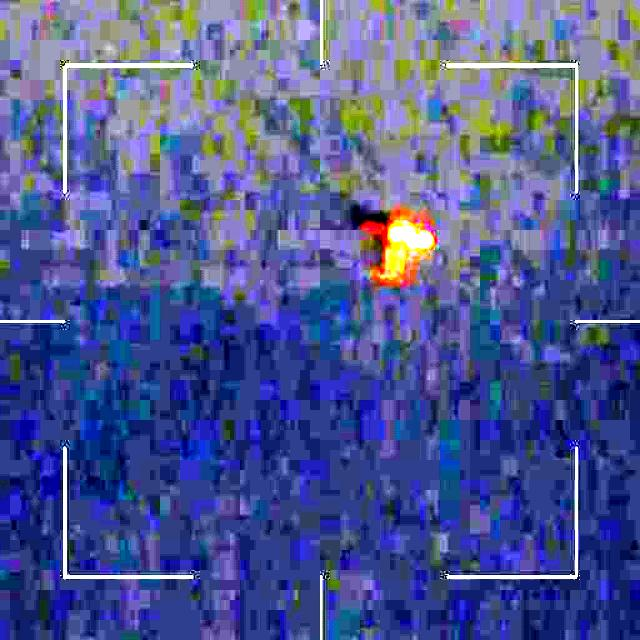bird: (340, 201, 428, 288)
